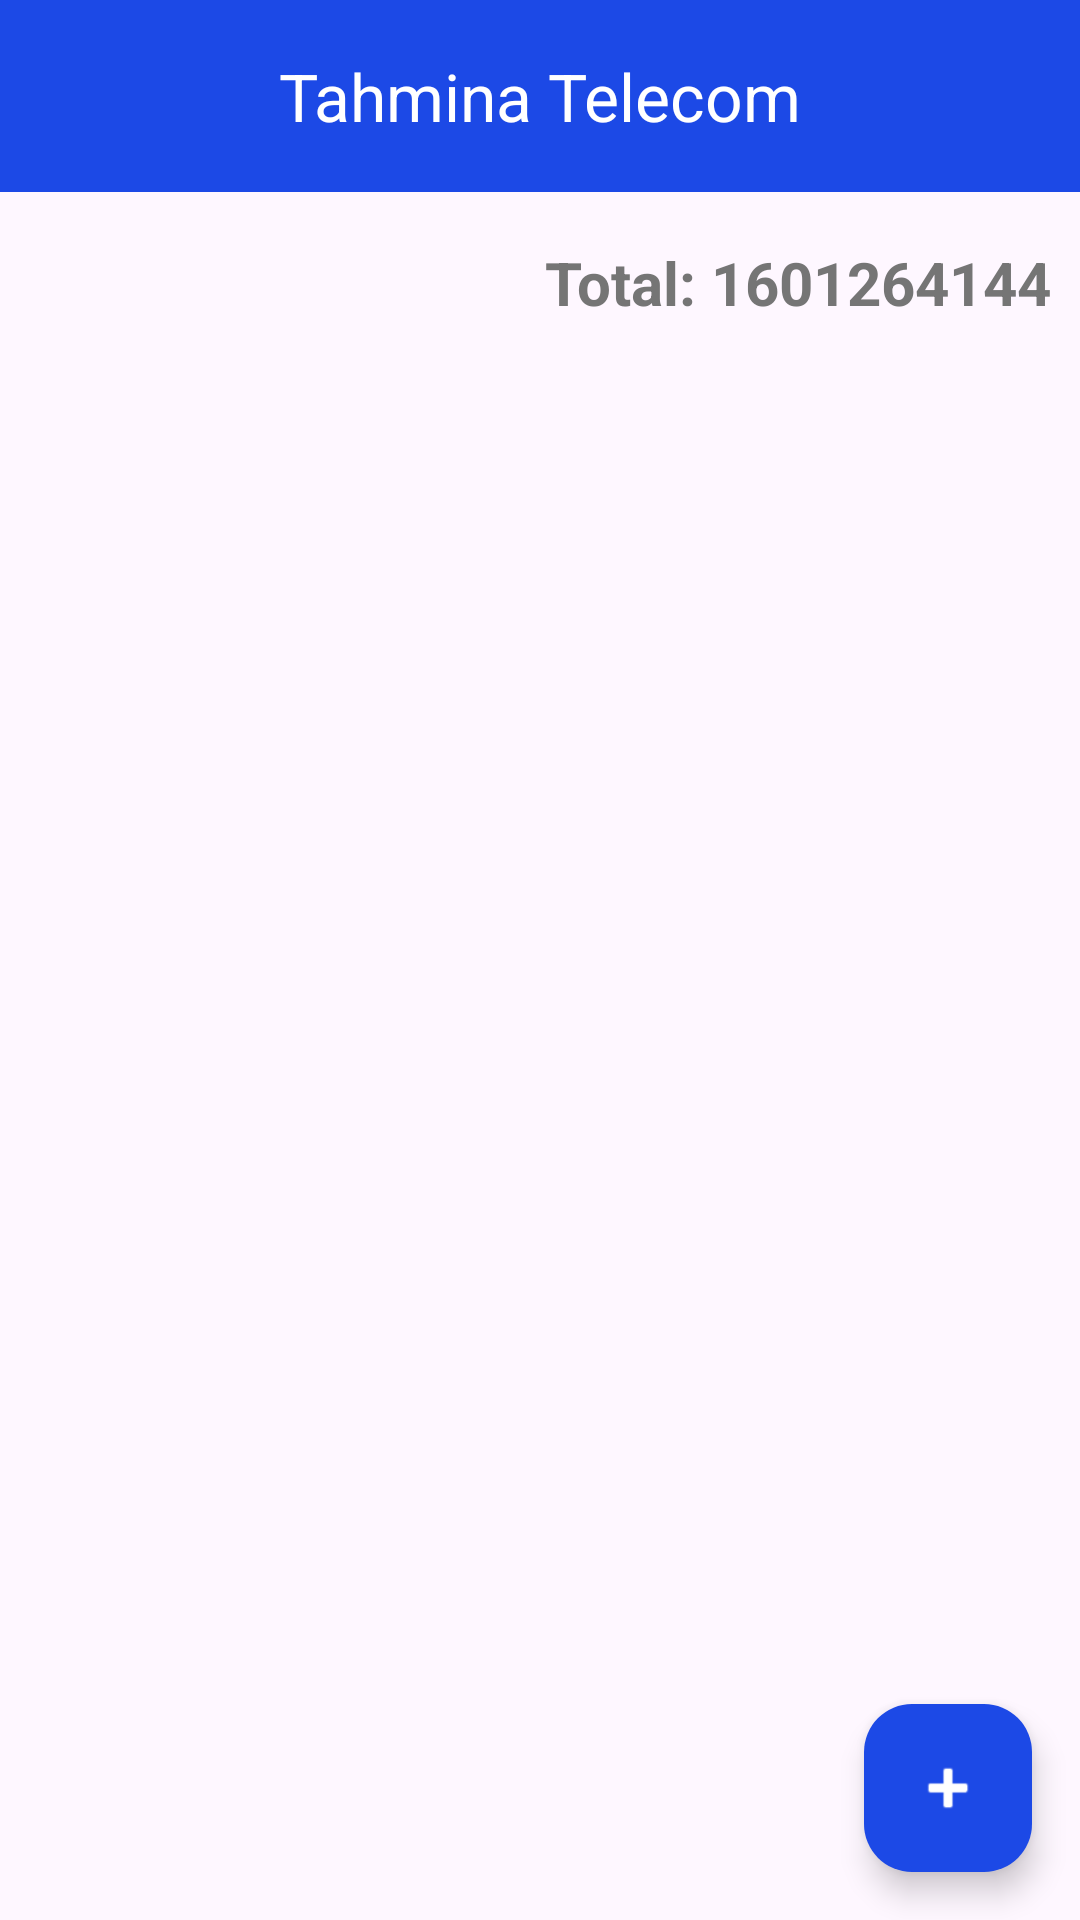

Named icons in this screenshot (1080w x 1920h) and their centers, point (x, y):
Floating Action Button: point (948, 1788)
